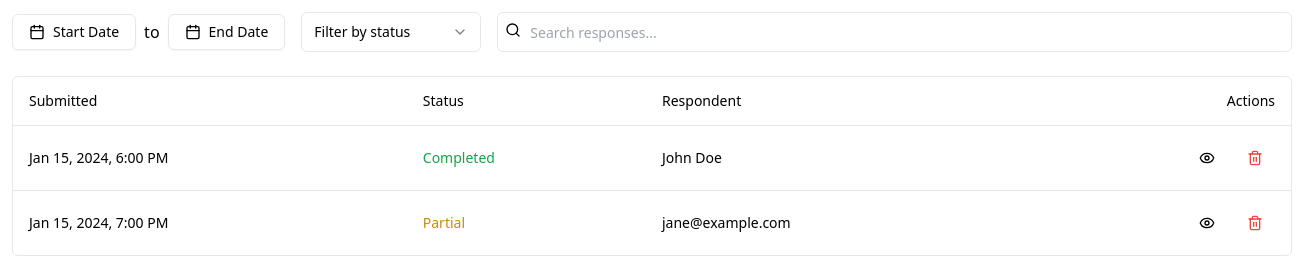
Test: ResponseList › filters responses by search term
This screenshot has width=1304, height=273.
Type "john" into the field with placeholder "Search responses..." at (895, 32), box [497,12,1292,52]
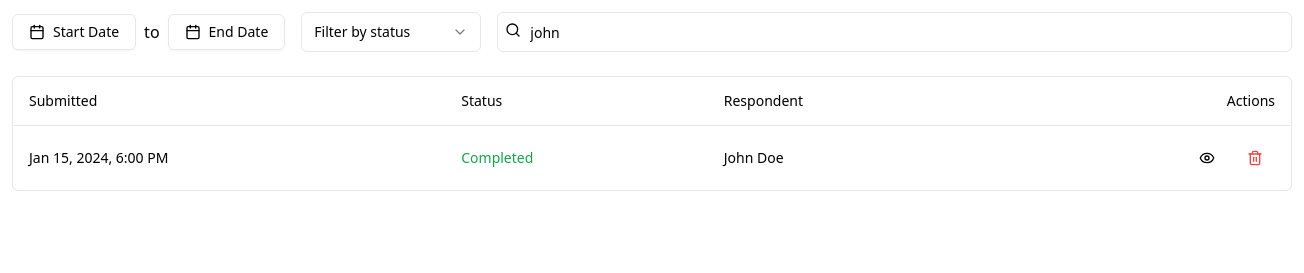
expect the text "John Doe" is shown: met, box [708,125,988,190]
expect the text "jane@example.com" is gone: met
